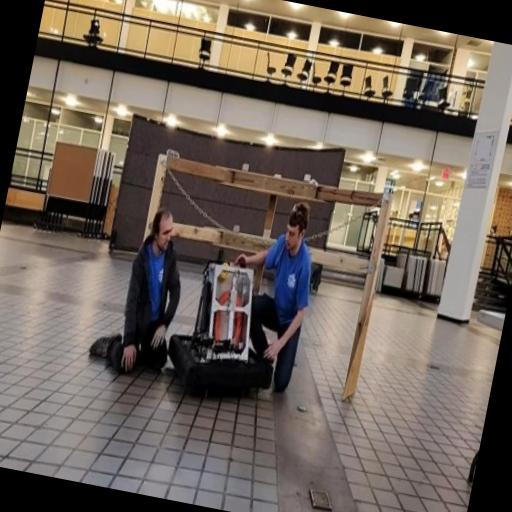robot: (160, 246, 298, 408)
